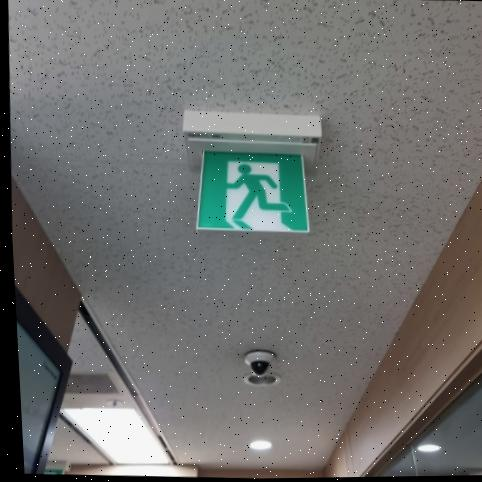emergency_exit: (182, 110, 323, 235), (195, 148, 310, 234)
